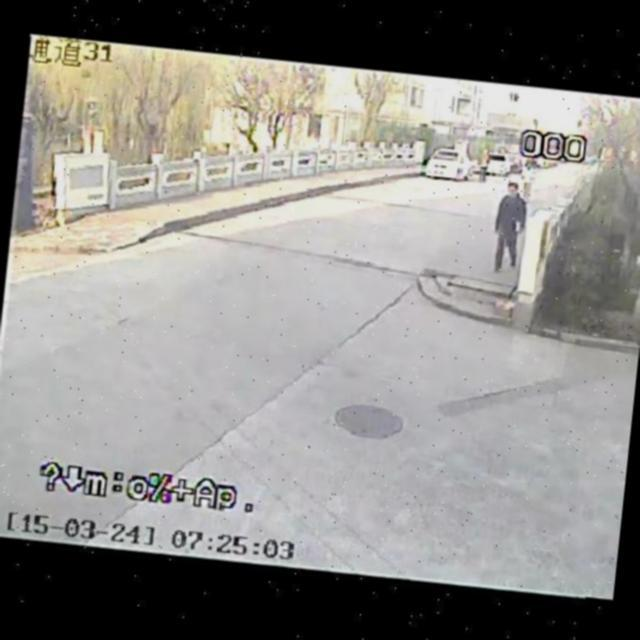person: (478, 172, 540, 293)
